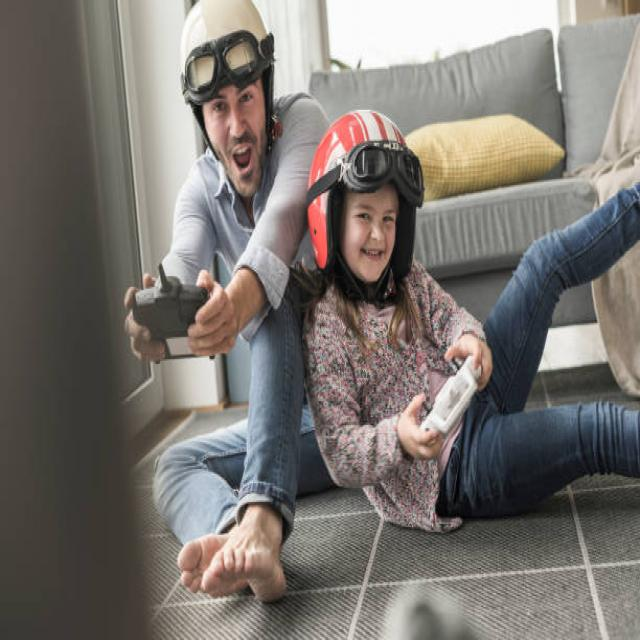with-helmet: (307, 103, 423, 300), (183, 0, 277, 195)
